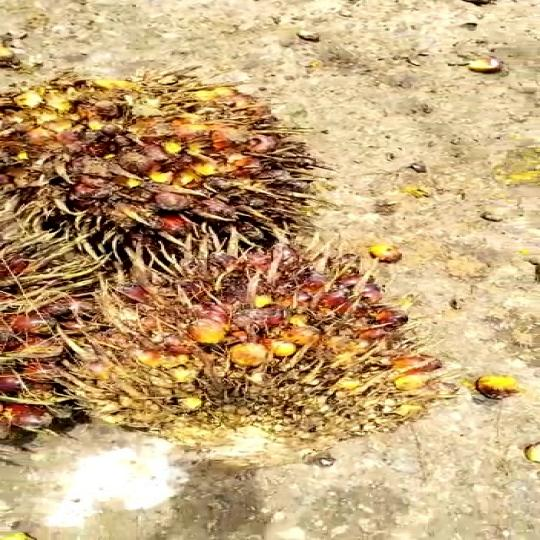masak: (51, 232, 455, 446), (0, 69, 322, 261)
